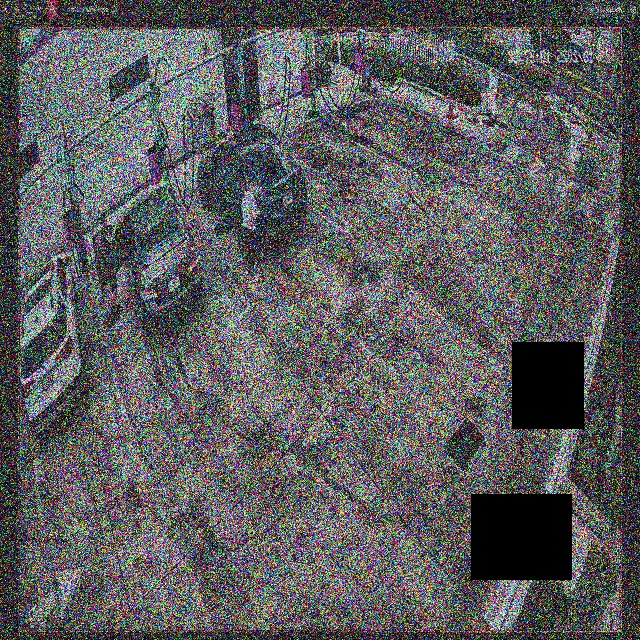Car: (93, 188, 197, 327), (196, 124, 305, 249)
